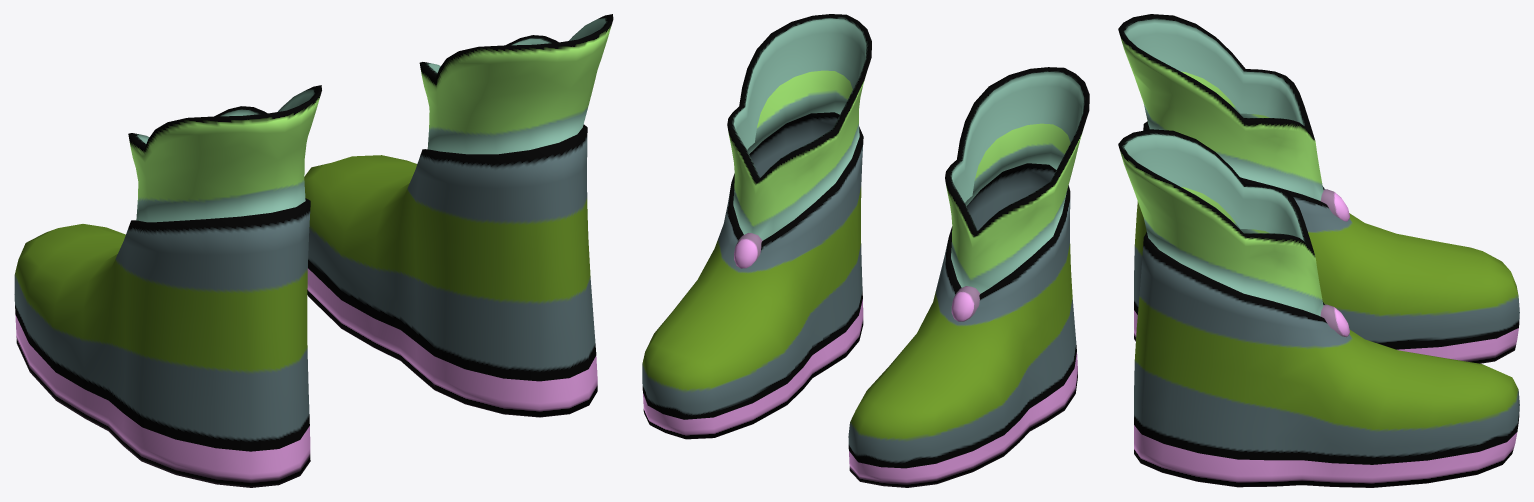
Rendered from Shoes_baked.obj.
3 renders of one model, left to right at view 1: azimuth 30°, elevation 25°; view 2: azimuth 150°, elevation 25°; view 3: azimuth 270°, elevation 25°, orthographic. The views are drawn at different scales.
Bounding box in the file's own units: 0.1602 × 0.1333 × 0.1544.
1 material, 1 textured.
